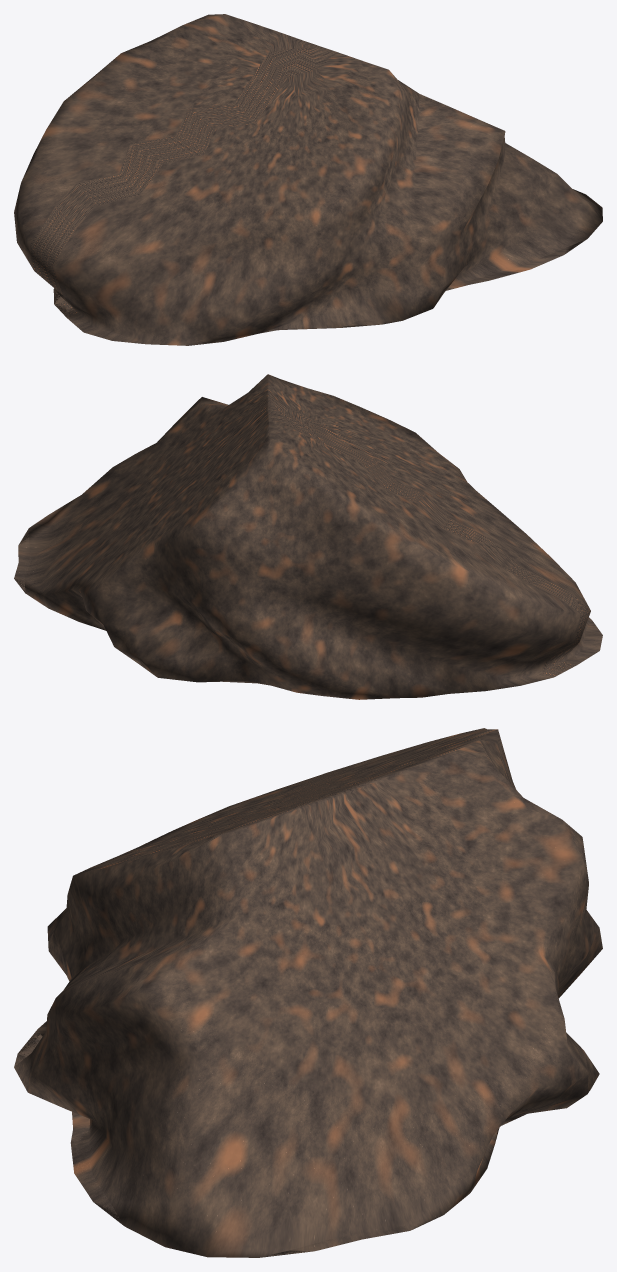
The model's file is boulder_4.dae.
3 views of the same model, one above another, from view 1: azimuth 30°, elevation 25°; view 2: azimuth 150°, elevation 25°; view 3: azimuth 270°, elevation 25° (orthographic). The views are drawn at different scales.
Parts seen in each view (by area): view 1: boulder_4; view 2: boulder_4; view 3: boulder_4.
Boxes of the visible parts, x1,y1,x2,y2 form: boulder_4: (14,14,602,345); boulder_4: (14,374,602,699); boulder_4: (14,728,602,1257).
Size of the model in its own units: 2.76 by 1.79 by 0.9981.
1 material, 1 textured.
